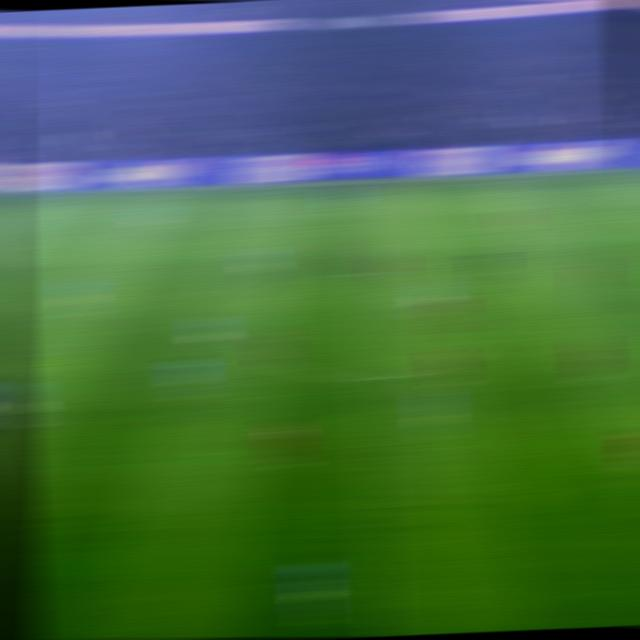halfcircle_bottom: (347, 364, 388, 390)
halfcircle_top: (344, 260, 381, 282)
midline_top_intersection: (341, 175, 376, 198)
